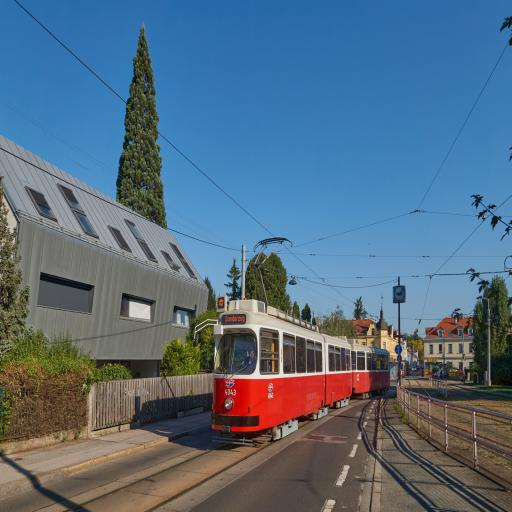E2-Tram: (210, 295, 390, 434)
